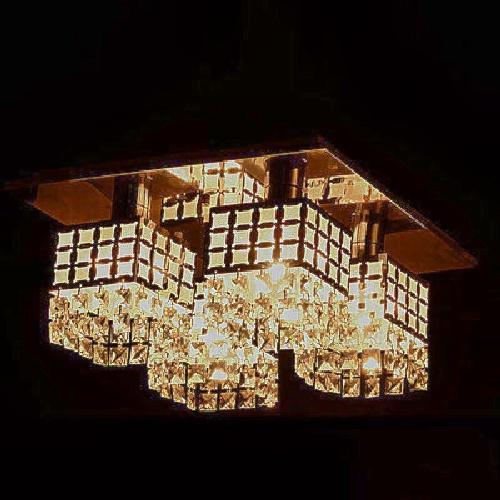lamp: (39, 122, 463, 418)
